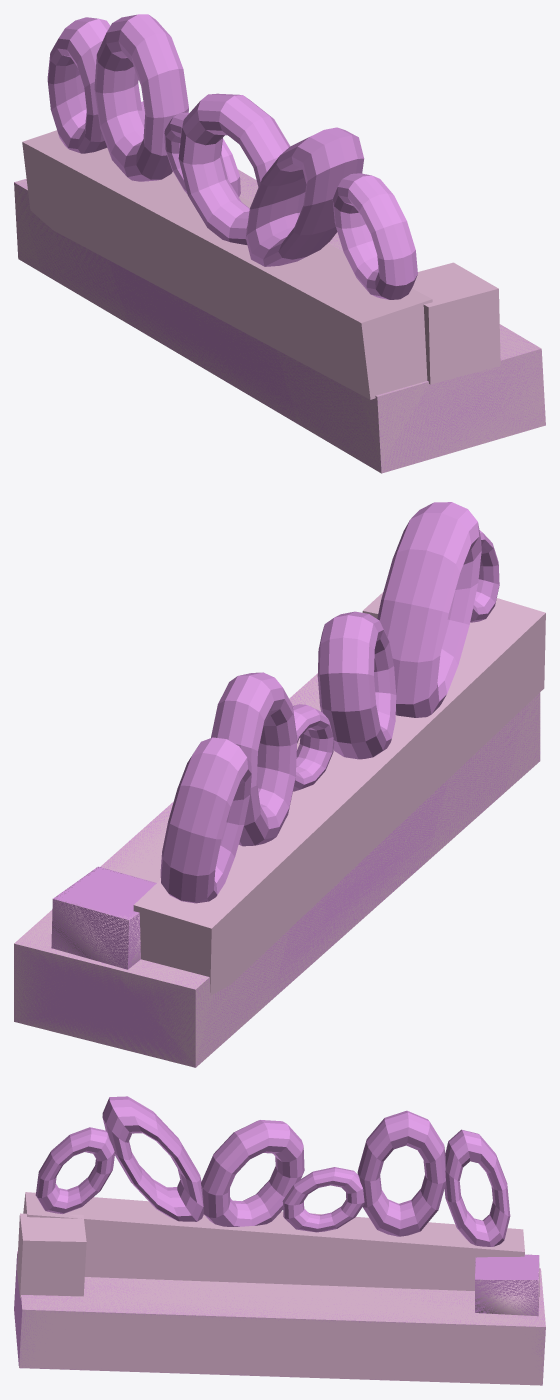
The model's file is decoratedBench.gltf.
3 renders of one model, top to bottom at view 1: azimuth 30°, elevation 25°; view 2: azimuth 150°, elevation 25°; view 3: azimuth 270°, elevation 25°, orthographic. The views are drawn at different scales.
Parts seen in each view (by area): view 1: group997983099, group795516396.001, group795516396, group997983099.001, group249111936, group32685562, group250445496, group672843478, group1115652965, group32685562.001, group249111936.001, group438409493 (+6 smaller); view 2: group997983099, group795516396.001, group795516396, group997983099.001, group249111936, group438409493, group249111936.001, group250445496, group32685562, group1601070232, group438409493.001, group250445496.001 (+6 smaller); view 3: group795516396, group997983099.001, group997983099, group672843478, group250445496, group32685562, group795516396.001, group32685562.001, group250445496.001, group249111936, group249111936.001, group1601070232 (+8 smaller).
Boxes of the visible parts, left/top/right/bottom form: group997983099: left=22, top=130, right=432, bottom=399; group795516396.001: left=14, top=170, right=545, bottom=473; group795516396: left=14, top=169, right=545, bottom=473; group997983099.001: left=22, top=130, right=432, bottom=398; group249111936: left=245, top=127, right=364, bottom=266; group32685562: left=94, top=14, right=188, bottom=181; group250445496: left=178, top=94, right=290, bottom=244; group672843478: left=413, top=262, right=500, bottom=384; group1115652965: left=332, top=173, right=417, bottom=299; group32685562.001: left=94, top=14, right=188, bottom=181; group249111936.001: left=246, top=127, right=363, bottom=266; group438409493: left=48, top=17, right=108, bottom=153; group997983099: left=133, top=598, right=545, bottom=995; group795516396.001: left=14, top=673, right=540, bottom=1067; group795516396: left=14, top=673, right=540, bottom=1067; group997983099.001: left=133, top=598, right=545, bottom=995; group249111936: left=378, top=502, right=481, bottom=717; group438409493: left=160, top=737, right=251, bottom=903; group249111936.001: left=377, top=502, right=481, bottom=717; group250445496: left=317, top=611, right=396, bottom=759; group32685562: left=211, top=672, right=297, bottom=846; group1601070232: left=51, top=866, right=156, bottom=969; group438409493.001: left=160, top=737, right=251, bottom=902; group250445496.001: left=317, top=614, right=396, bottom=759; group795516396: left=14, top=1251, right=545, bottom=1385; group997983099.001: left=25, top=1192, right=524, bottom=1290; group997983099: left=23, top=1192, right=524, bottom=1290; group672843478: left=17, top=1213, right=86, bottom=1298; group250445496: left=201, top=1120, right=304, bottom=1226; group32685562: left=357, top=1110, right=445, bottom=1236; group795516396.001: left=14, top=1251, right=545, bottom=1385; group32685562.001: left=357, top=1110, right=445, bottom=1236; group250445496.001: left=201, top=1120, right=304, bottom=1226; group249111936: left=102, top=1096, right=203, bottom=1221; group249111936.001: left=102, top=1096, right=203, bottom=1221; group1601070232: left=475, top=1254, right=539, bottom=1315.
Bounding box in the file's own units: 1.54 × 2.42 × 4.84.
